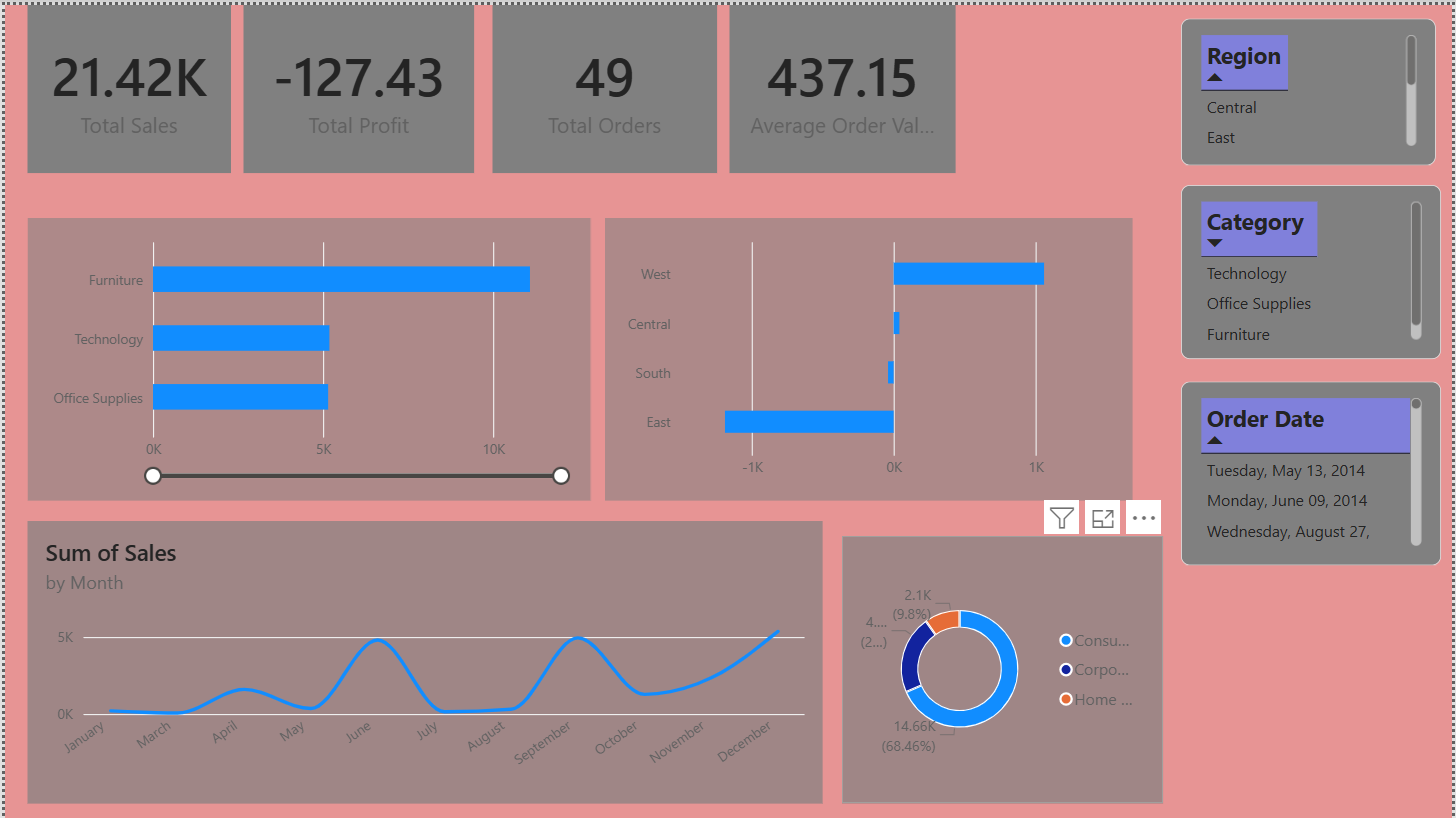

What the dashboard file says about the page in this screenshot:
{"tool":"powerbi","page":{"name":"Page 1","canvas":[1280,720],"ordinal":0},"visuals":[{"type":"card","fields":{"Values":["Sample - Superstore.Total Sales"]},"box":[20,0,179.8,148.4],"z":0},{"type":"card","fields":{"Values":["Sample - Superstore.Total Profit"]},"box":[211.2,0,204.1,148.4],"z":1000},{"type":"card","fields":{"Values":["Sample - Superstore.Total Orders"]},"box":[430.9,0,198.4,148.4],"z":2000},{"type":"card","fields":{"Values":["Sample - Superstore.Average Order Value"]},"box":[640.7,0,199.8,148.4],"z":3000},{"type":"clusteredBarChart","fields":{"Category":["Sample - Superstore.Category"],"Y":["Sum(Sample - Superstore.Sales)"]},"box":[20,188.4,498,249.7],"z":4000},{"type":"barChart","fields":{"Category":["Sample - Superstore.Region"],"Y":["Sum(Sample - Superstore.Profit)"]},"box":[530.8,188.4,466.6,249.7],"z":5000},{"type":"lineChart","fields":{"Category":["Sample - Superstore.Order Date.Variation.Date Hierarchy.Month"],"Y":["Sum(Sample - Superstore.Sales)"]},"box":[20,456.6,703.5,249.7],"z":6000},{"type":"donutChart","fields":{"Category":["Sample - Superstore.Segment"],"Y":["Sum(Sample - Superstore.Sales)"]},"box":[740.6,469.5,284,236.9],"z":7000},{"type":"tableEx","fields":{"Values":["Sample - Superstore.Region"]},"box":[1040.3,11.4,225.5,129.9],"z":8000},{"type":"tableEx","fields":{"Values":["Sample - Superstore.Category"]},"box":[1040.3,159.8,229.7,154.1],"z":9000},{"type":"tableEx","fields":{"Values":["Sample - Superstore.Order Date"]},"box":[1040.3,332.5,229.7,162.7],"z":10000}]}

Visuals, with their boxes in screenshot pixels (x1, y1, x2, y2), scaled from the page's 1280x720 canvas onto the 1456x818 screenshot:
card - Sample - Superstore.Total Sales: bbox=[23, 0, 227, 169]
card - Sample - Superstore.Total Profit: bbox=[240, 0, 472, 169]
card - Sample - Superstore.Total Orders: bbox=[490, 0, 716, 169]
card - Sample - Superstore.Average Order Value: bbox=[729, 0, 956, 169]
clusteredBarChart - Sample - Superstore.Category x Sum(Sample - Superstore.Sales): bbox=[23, 214, 589, 498]
barChart - Sample - Superstore.Region x Sum(Sample - Superstore.Profit): bbox=[604, 214, 1135, 498]
lineChart - Sample - Superstore.Order Date.Variation.Date Hierarchy.Month x Sum(Sample - Superstore.Sales): bbox=[23, 519, 823, 802]
donutChart - Sample - Superstore.Segment x Sum(Sample - Superstore.Sales): bbox=[842, 533, 1165, 803]
tableEx - Sample - Superstore.Region: bbox=[1183, 13, 1440, 161]
tableEx - Sample - Superstore.Category: bbox=[1183, 182, 1445, 357]
tableEx - Sample - Superstore.Order Date: bbox=[1183, 378, 1445, 563]
